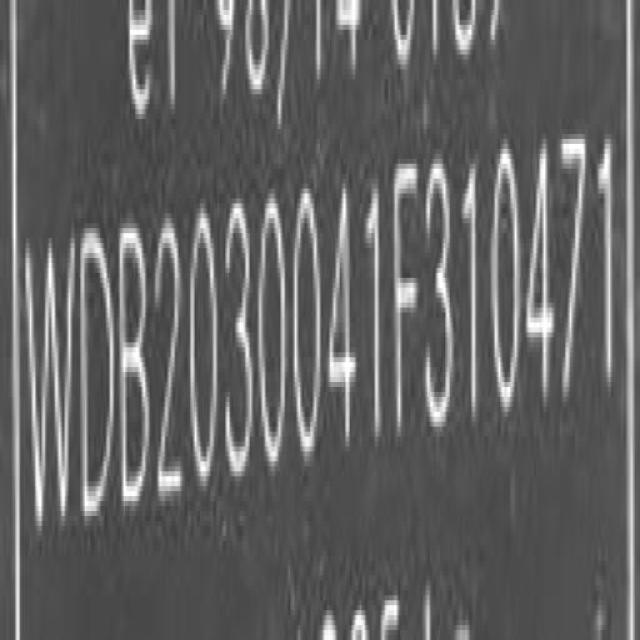0: (190, 204, 221, 500), (258, 190, 289, 477), (492, 142, 522, 427), (294, 182, 323, 471)
1: (599, 125, 619, 411), (365, 166, 384, 461), (464, 157, 482, 443)
2: (154, 213, 185, 510)
3: (425, 160, 456, 448), (226, 203, 253, 490)
4: (329, 177, 361, 467), (525, 136, 557, 424)
7: (560, 124, 590, 416)
B: (119, 216, 152, 518)
D: (80, 229, 117, 529)
F: (390, 148, 421, 434)
W: (25, 229, 76, 538)
